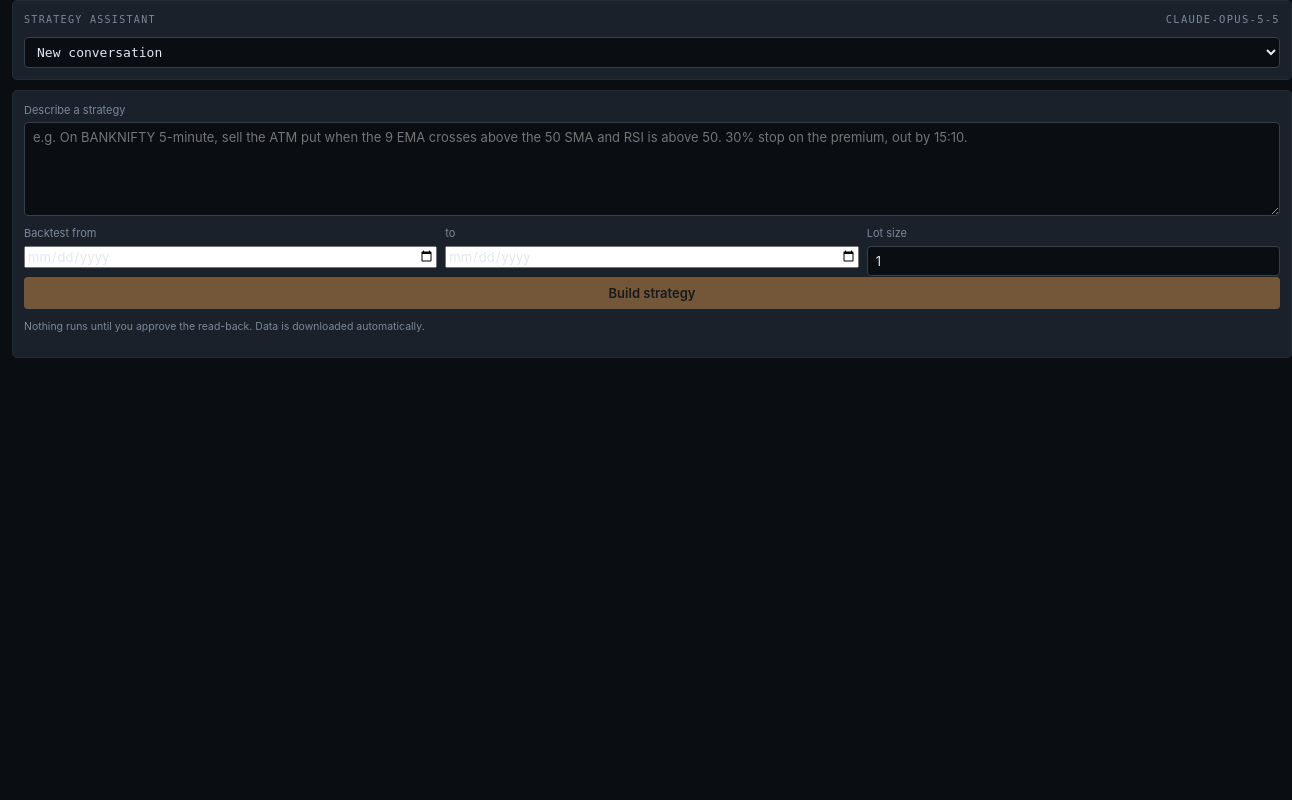
Test: Assistant › shows a result with its data provenance and starts paper trading
Later steps or results of the test are not shown.
Select "EMA" in the dropdown: (652, 52) x1=24 y1=37 x2=1280 y2=68
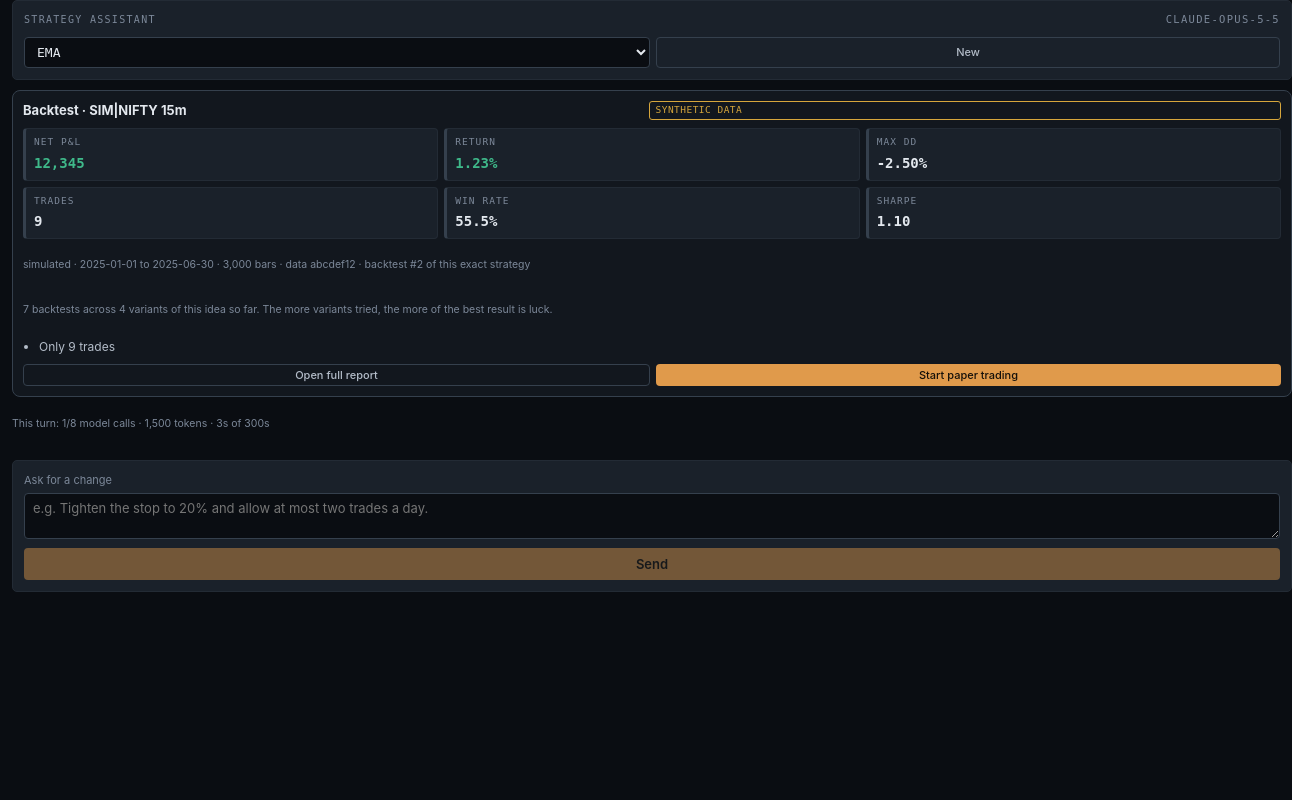
Now the text "synthetic data" is shown, box x1=648 y1=101 x2=1281 y2=120
Now the text "12,345" is shown, box x1=34 y1=154 x2=85 y2=170
Now the text "backtest #2 of this exact strategy" is shown, box x1=356 y1=258 x2=530 y2=271
